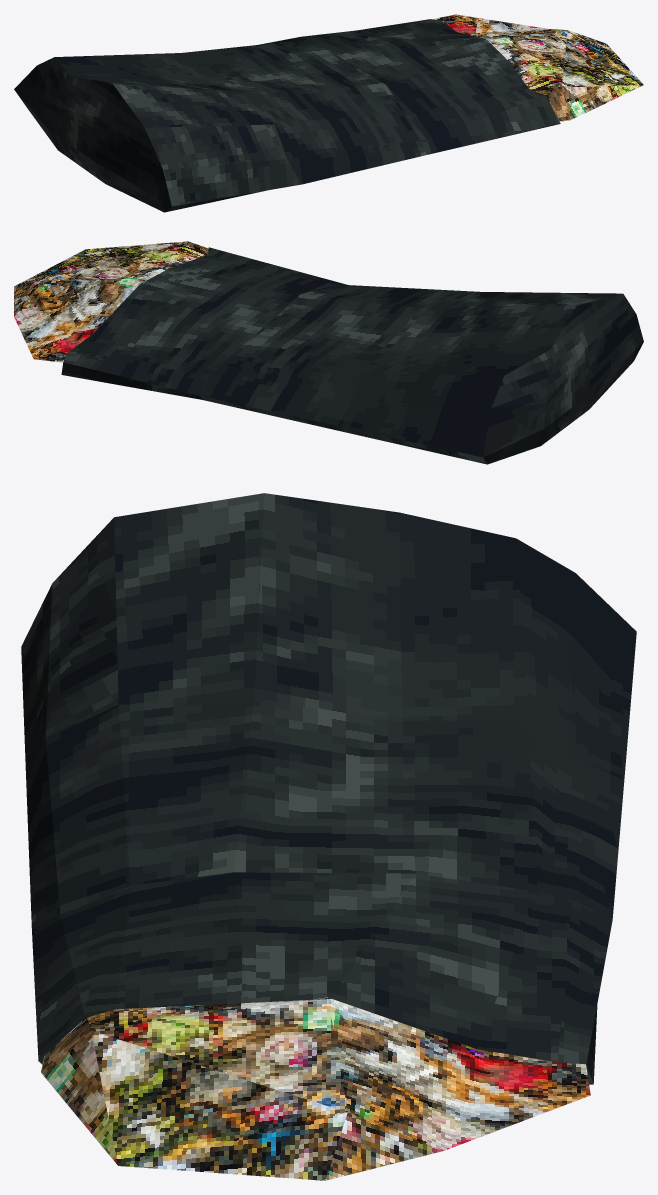
File: trashbag_3.glb
The picture shows the model from 3 angles, top to bottom: view 1: azimuth 30°, elevation 25°; view 2: azimuth 150°, elevation 25°; view 3: azimuth 270°, elevation 25°; orthographic projection. The views are drawn at different scales.
Parts seen in each view (by area): view 1: trashbag_3; view 2: trashbag_3; view 3: trashbag_3.
Boxes of the visible parts, x1,y1,x2,y2 form: trashbag_3: (14,14,643,212); trashbag_3: (14,241,643,464); trashbag_3: (21,493,636,1180).
Size of the model in its own units: 1.73 by 0.3175 by 0.8694.
Materials: 2 (2 with a texture image).
